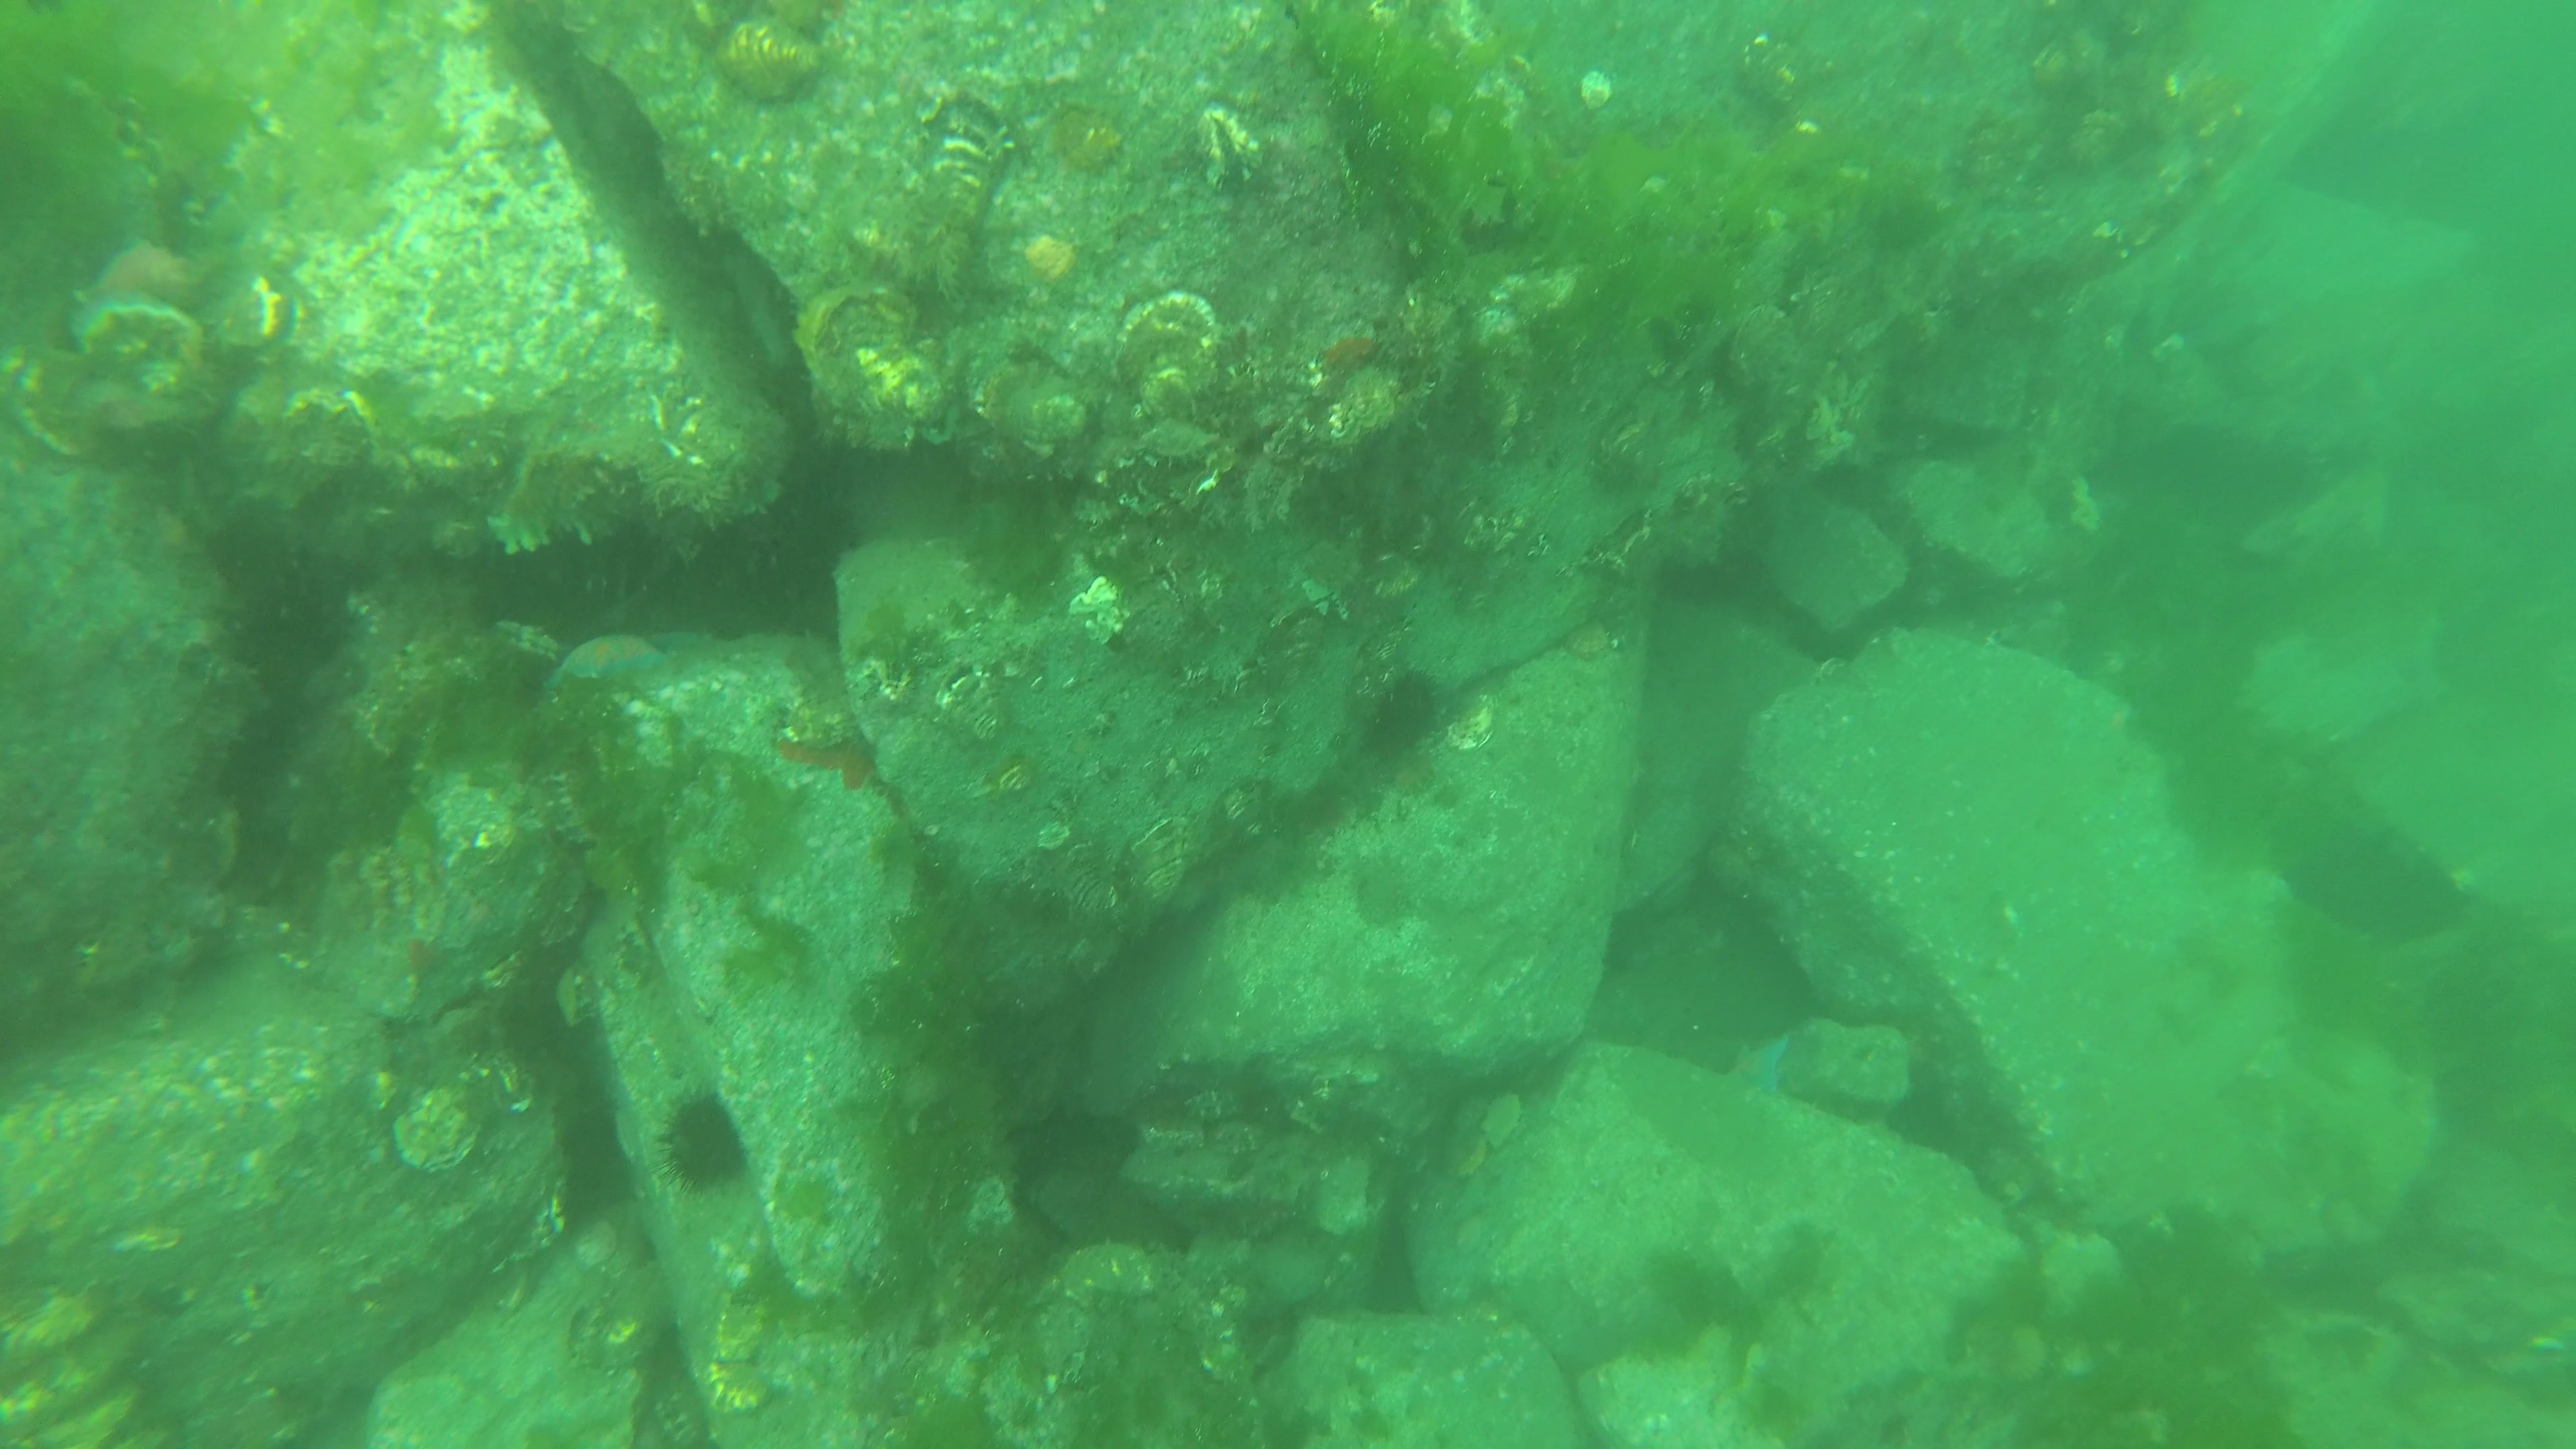echinus: (1012, 1102, 1143, 1235), (1658, 547, 1794, 628), (653, 1092, 750, 1201), (1371, 669, 1449, 754)
starfish: (92, 235, 188, 306), (557, 633, 674, 683), (1727, 1033, 1794, 1093)
